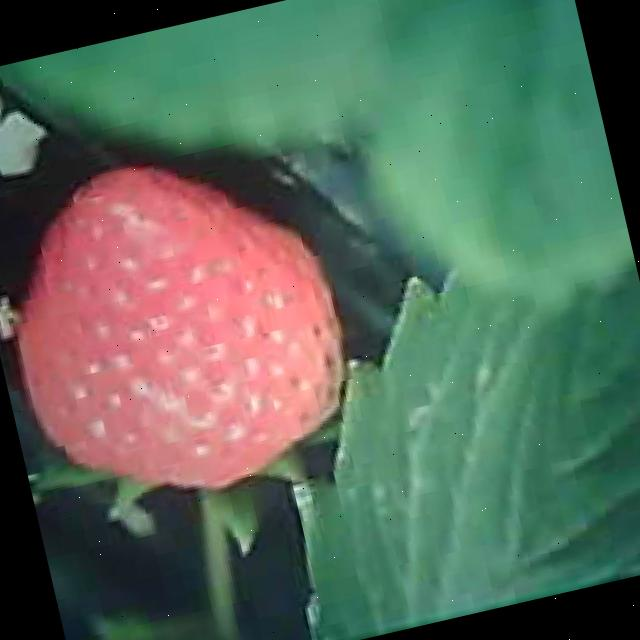strawberry: (0, 126, 369, 522)
